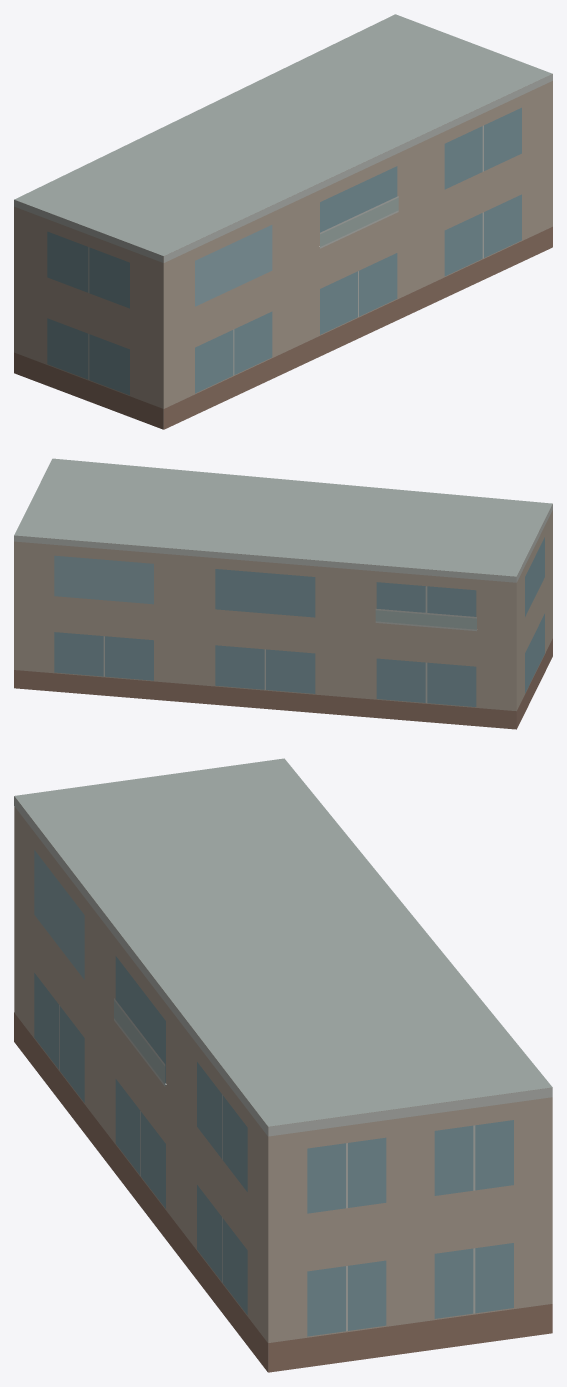
File: survey-upis-32619086.glb
3 renders of one model, top to bottom at view 1: azimuth 30°, elevation 25°; view 2: azimuth 150°, elevation 25°; view 3: azimuth 270°, elevation 25°, orthographic. The views are drawn at different scales.
Visible parts, largest first — view 1: survey-upis-32619086.tmp; view 2: survey-upis-32619086.tmp; view 3: survey-upis-32619086.tmp.
Boxes of the visible parts, <box> form: survey-upis-32619086.tmp: <box>14,14,552,429</box>; survey-upis-32619086.tmp: <box>14,458,552,729</box>; survey-upis-32619086.tmp: <box>14,758,552,1372</box>.
Bounding box in the file's own units: 19.62 × 6.1 × 12.12.
